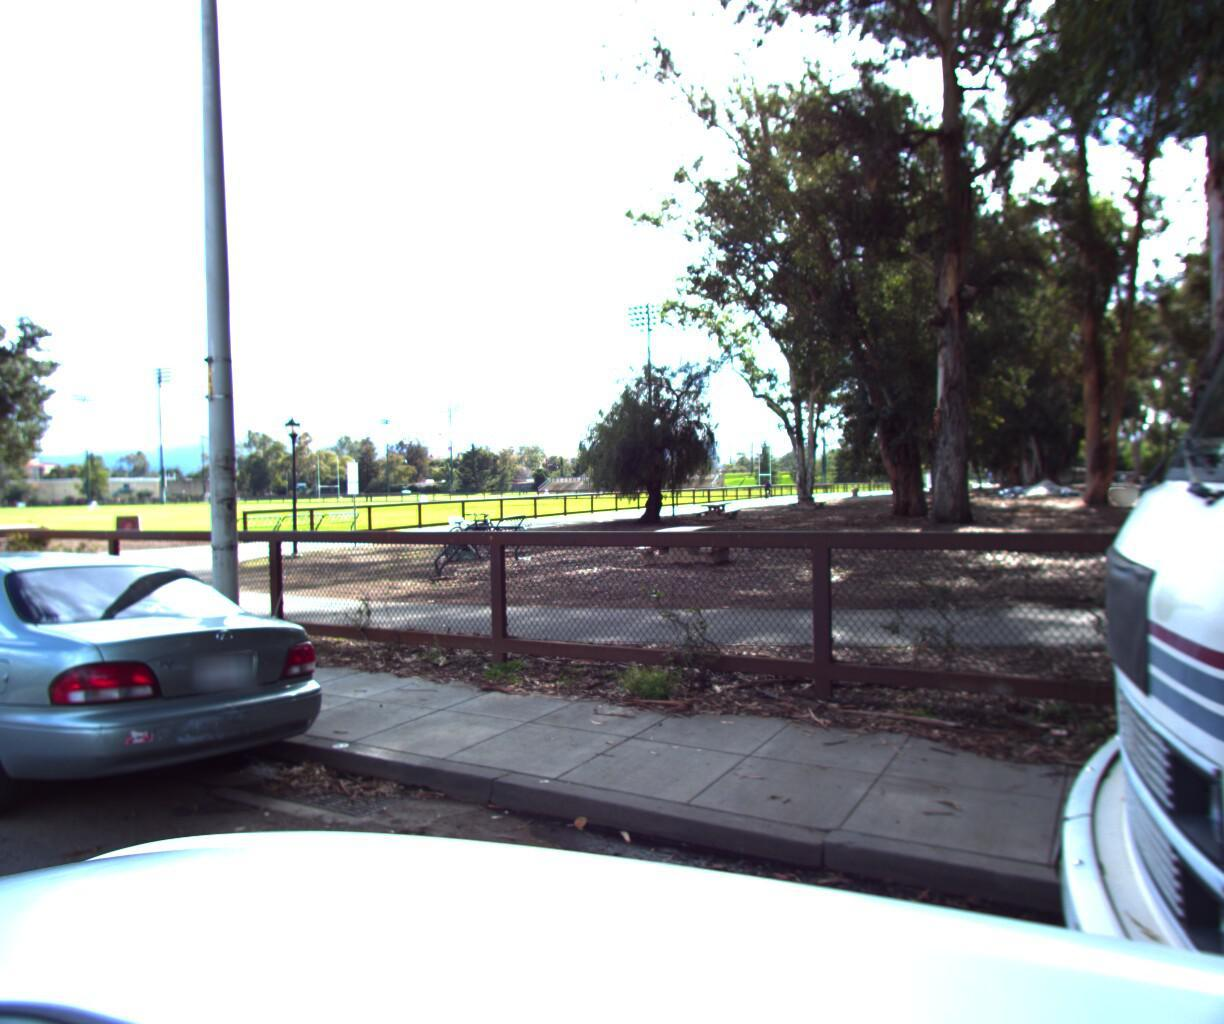car: (0, 533, 335, 952)
